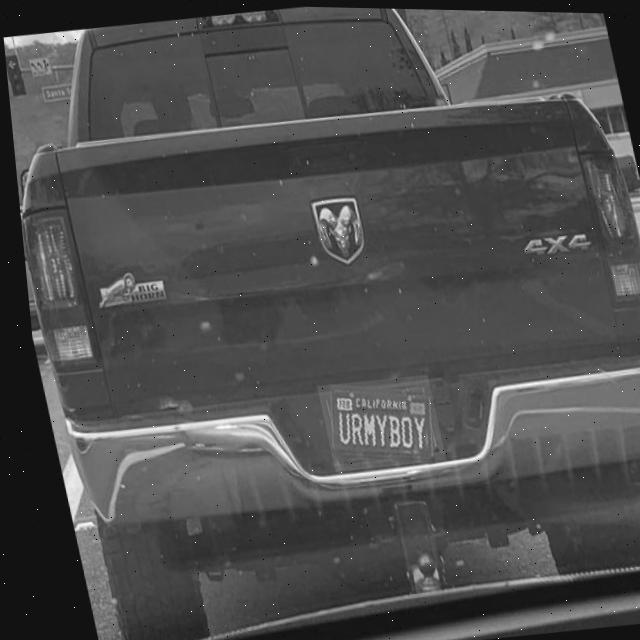LicensePlate: (321, 383, 427, 459)
